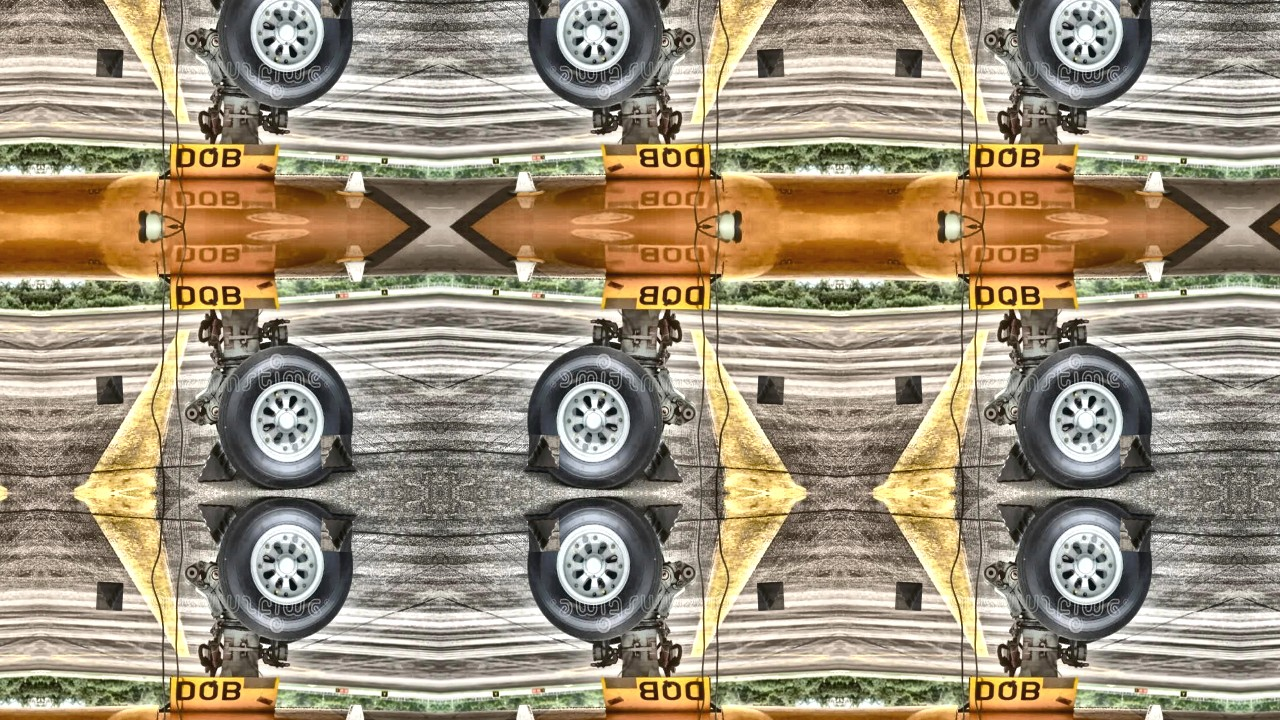chock: (195, 439, 236, 483), (644, 439, 685, 483), (995, 439, 1036, 483), (195, 504, 236, 548), (644, 504, 685, 548), (995, 504, 1036, 548), (320, 434, 352, 469), (528, 434, 560, 469), (1120, 434, 1152, 469), (320, 518, 352, 553), (528, 518, 560, 553), (1120, 518, 1152, 553), (96, 48, 123, 77), (757, 48, 784, 77), (896, 48, 923, 77), (96, 376, 123, 405), (757, 376, 784, 405), (896, 376, 923, 405), (96, 582, 123, 611), (757, 582, 784, 611), (896, 582, 923, 611), (320, 0, 352, 19), (528, 0, 560, 19), (1120, 0, 1152, 19), (195, 0, 236, 14), (644, 0, 685, 14), (995, 0, 1036, 14)
wheel: (210, 340, 354, 491), (526, 340, 670, 491), (1010, 340, 1154, 491), (210, 496, 354, 647), (526, 496, 670, 647), (1010, 496, 1154, 647), (210, 0, 354, 113), (526, 0, 670, 113), (1010, 0, 1154, 113)
